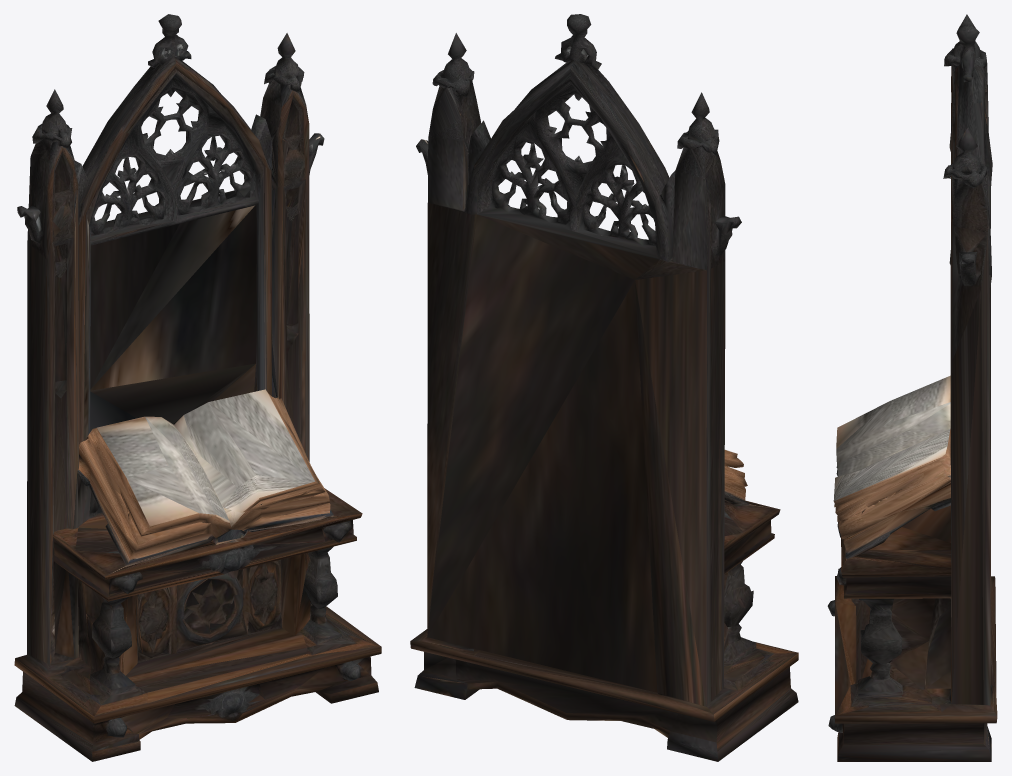
File: lectern_book.glb
3 views of the same model, side by side, from view 1: azimuth 30°, elevation 25°; view 2: azimuth 150°, elevation 25°; view 3: azimuth 270°, elevation 25° (orthographic). The views are drawn at different scales.
Visible parts, largest first — view 1: body; view 2: body; view 3: body.
Boxes of the visible parts, <box> form: body: <box>14,14,381,761</box>; body: <box>410,14,798,761</box>; body: <box>827,14,997,761</box>.
Size of the model in its own units: 0.6943 by 1.45 by 0.335.
Materials: 1 (1 with a texture image).
